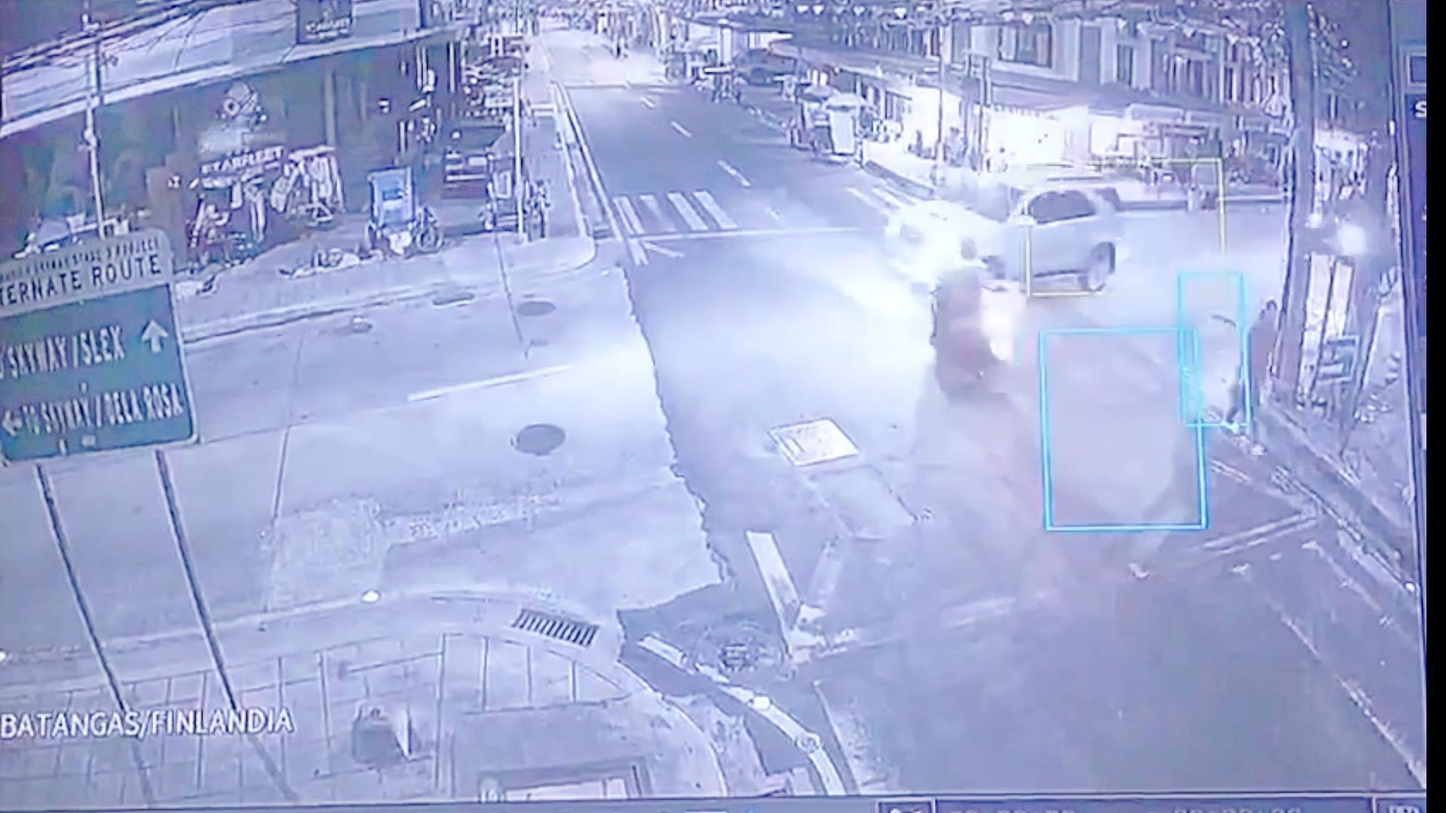Car: (891, 157, 1126, 300)
Motor: (925, 225, 1007, 400)
